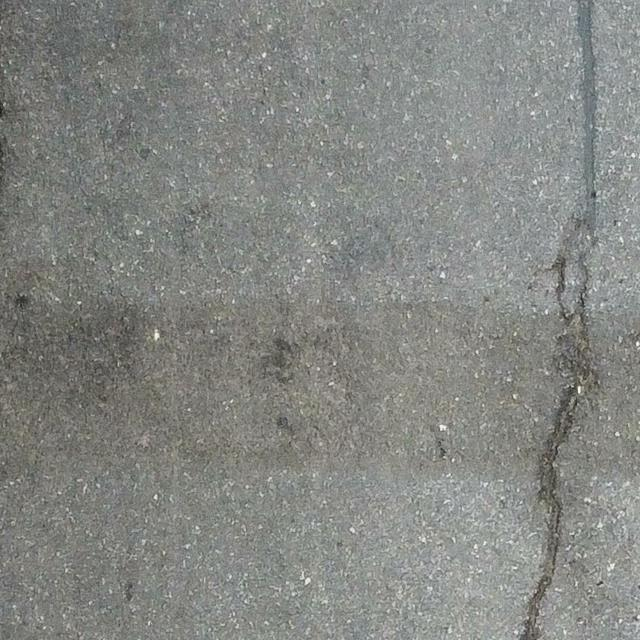LongitudinalCrack: (520, 1, 602, 640)
